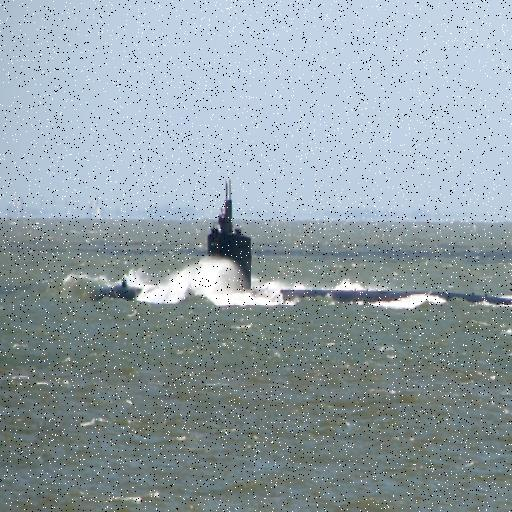submarine: (88, 183, 512, 299)
